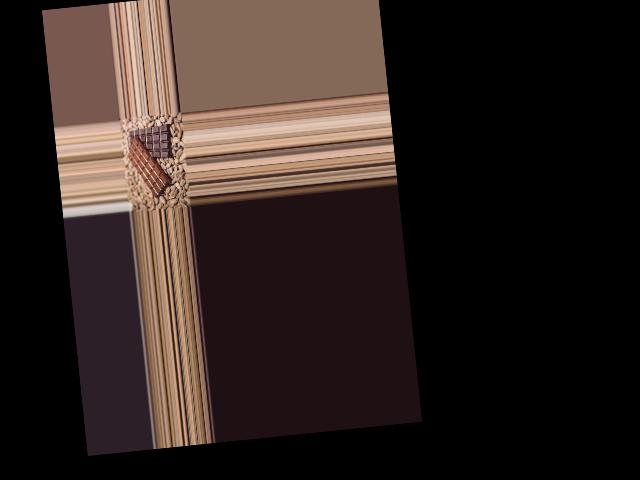chocolate: (126, 119, 175, 161)
